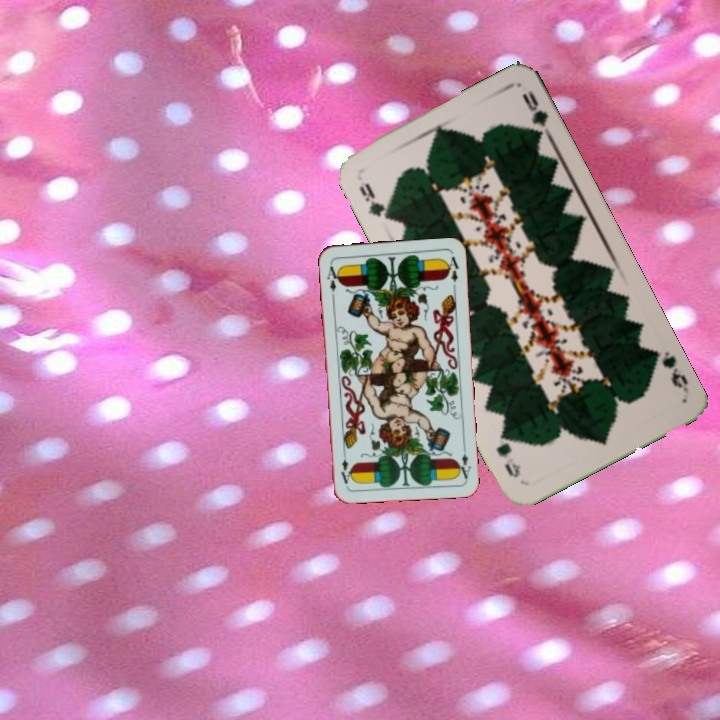EA: (454, 440, 473, 481), (323, 259, 342, 294)
G9: (648, 345, 691, 396), (355, 179, 395, 223)
